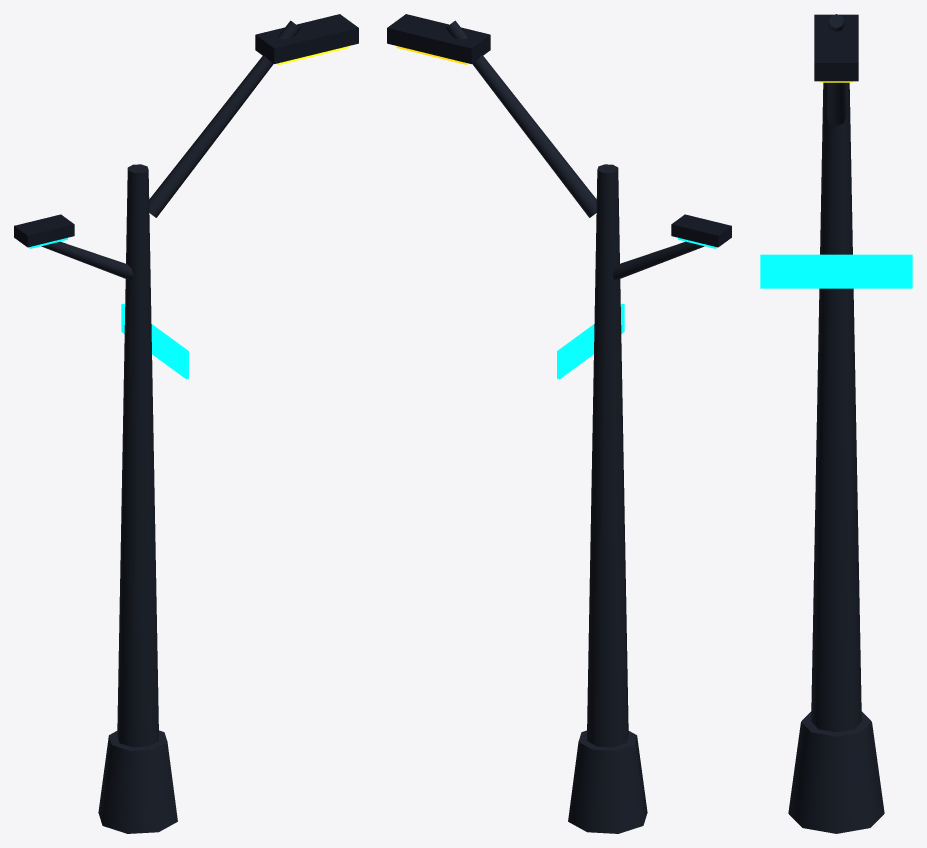
File: prop_streetlight.glb
3 views of the same model, side by side, from view 1: azimuth 30°, elevation 25°; view 2: azimuth 150°, elevation 25°; view 3: azimuth 270°, elevation 25° (orthographic). The views are drawn at different scales.
Visible parts, largest first — view 1: PropStreetlight; view 2: PropStreetlight; view 3: PropStreetlight.
Boxes of the visible parts, x1,y1,x2,y2 form: PropStreetlight: (14, 14, 358, 833); PropStreetlight: (387, 14, 731, 833); PropStreetlight: (760, 14, 912, 833).
Bounding box in the file's own units: 3.5 × 7.72 × 1.2.
